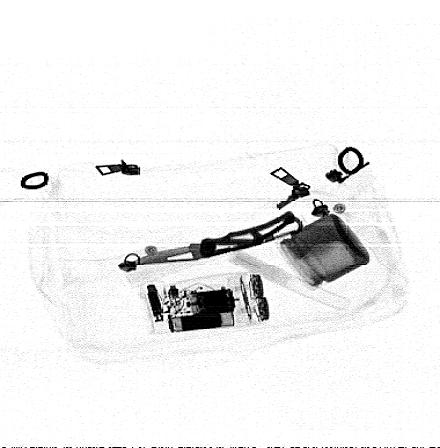Knife: (125, 209, 303, 266)
